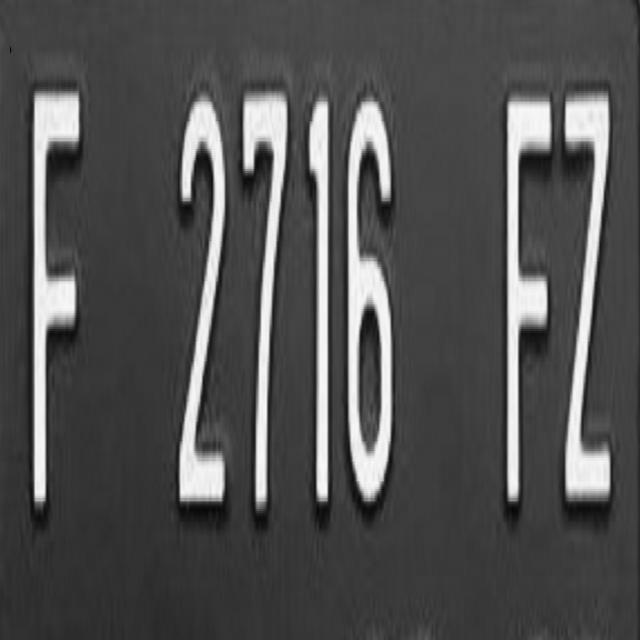1: (300, 80, 340, 518)
2: (158, 83, 234, 554)
6: (338, 90, 402, 528)
7: (234, 75, 288, 528)
F: (21, 60, 88, 522), (498, 83, 556, 518)
Z: (563, 88, 627, 514)
